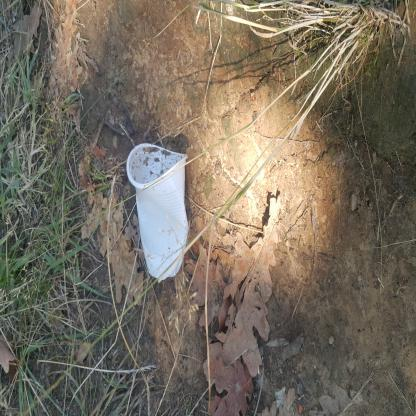trash: (75, 217, 173, 357)
